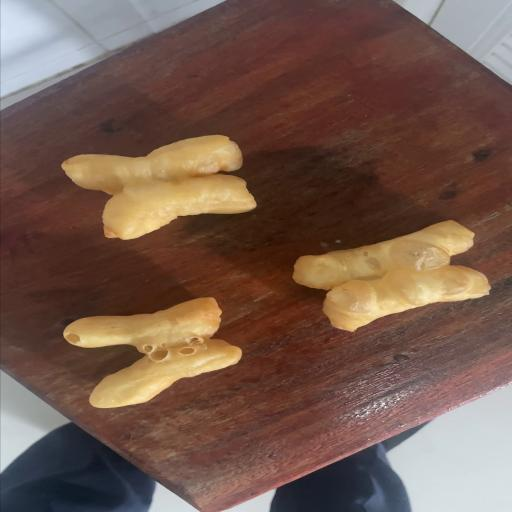street_golden_defect: (295, 222, 488, 330), (63, 299, 241, 407)
street_golden_good: (63, 137, 256, 240)
